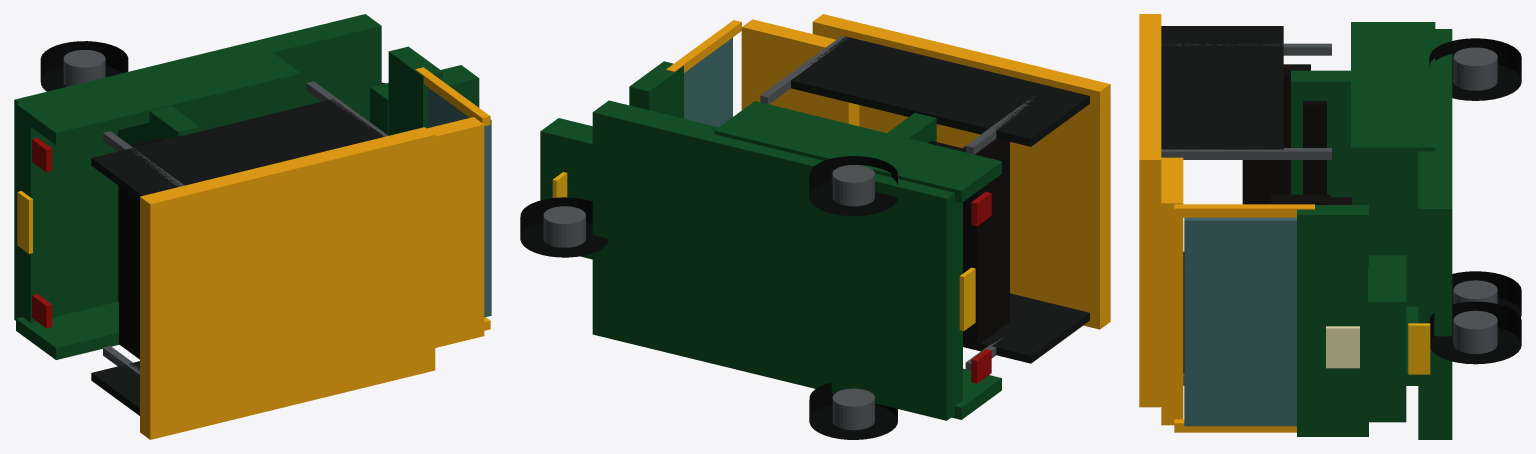
Rendered from autorickshaw.obj.
The picture shows the model from 3 angles, left to right: view 1: azimuth 30°, elevation 25°; view 2: azimuth 150°, elevation 25°; view 3: azimuth 270°, elevation 25°; orthographic projection. The views are drawn at different scales.
Size of the model in its own units: 2.64 by 1.42 by 1.9.
